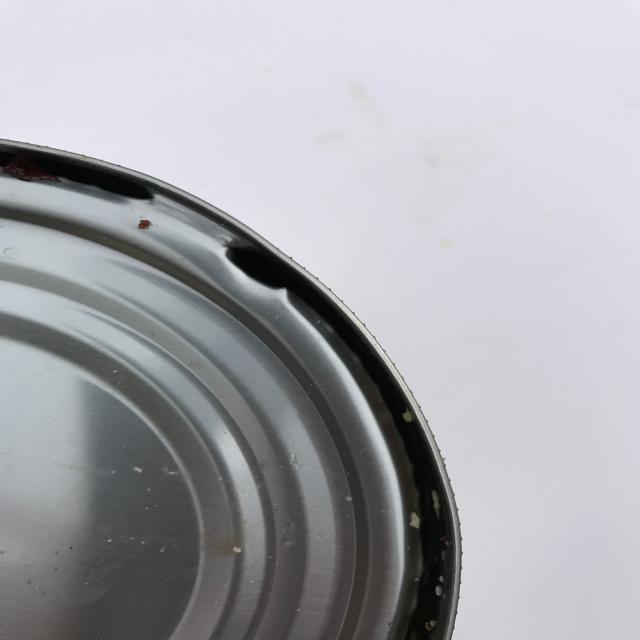metal: (1, 137, 463, 639)
